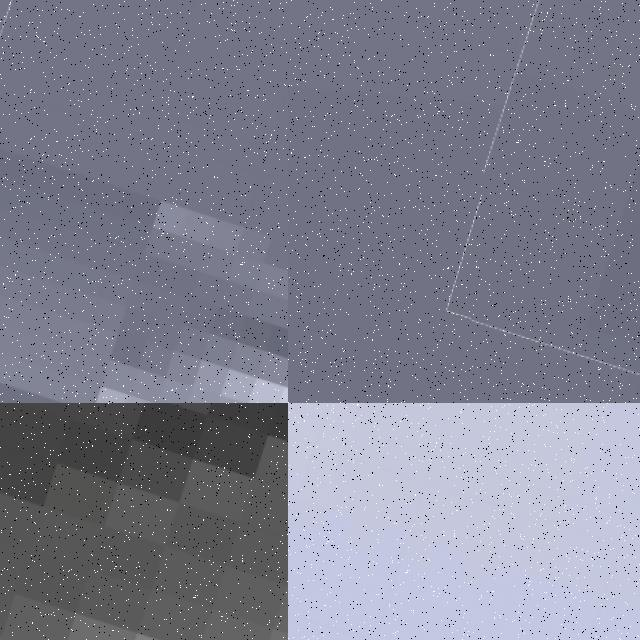drone: (0, 0, 288, 403), (288, 403, 640, 640), (465, 0, 640, 401), (0, 403, 288, 640)
